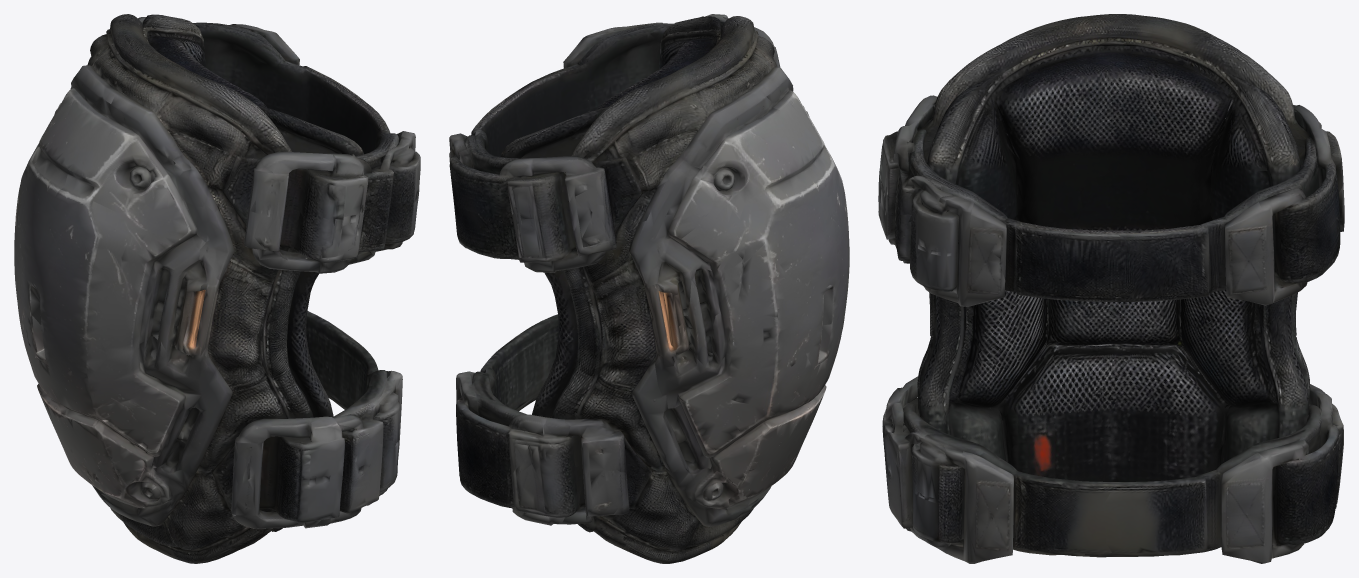
The model's file is tactical-knee-pad-mirrored-v1.glb.
The picture shows the model from 3 angles, left to right: view 1: azimuth 30°, elevation 25°; view 2: azimuth 150°, elevation 25°; view 3: azimuth 270°, elevation 25°; orthographic projection. The views are drawn at different scales.
Visible parts, largest first — view 1: tripo_node_c425a920-4160-4335-a196-7b7cef7573d1; view 2: tripo_node_c425a920-4160-4335-a196-7b7cef7573d1; view 3: tripo_node_c425a920-4160-4335-a196-7b7cef7573d1.
Part boxes in pixels (box(x1,y1,x2,y2)): tripo_node_c425a920-4160-4335-a196-7b7cef7573d1: box(14, 14, 420, 563); tripo_node_c425a920-4160-4335-a196-7b7cef7573d1: box(449, 14, 849, 563); tripo_node_c425a920-4160-4335-a196-7b7cef7573d1: box(878, 14, 1344, 563).
Size of the model in its own units: 0.1654 by 0.24 by 0.1912.
Materials: 1 (1 with a texture image).
